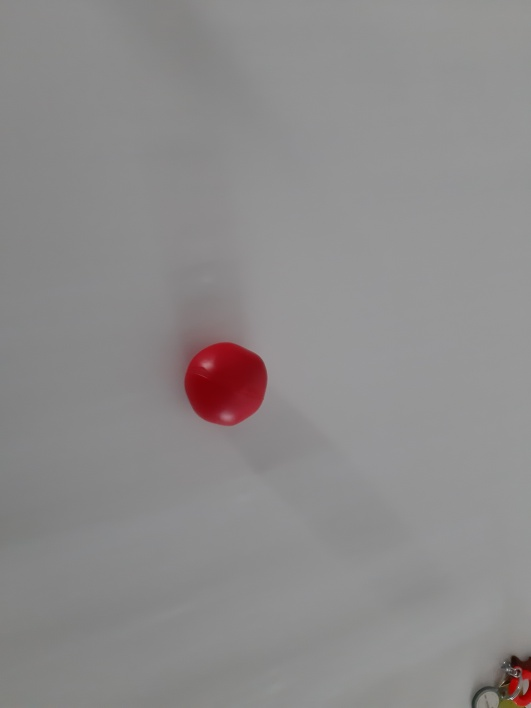tomato: (170, 333, 284, 439)
